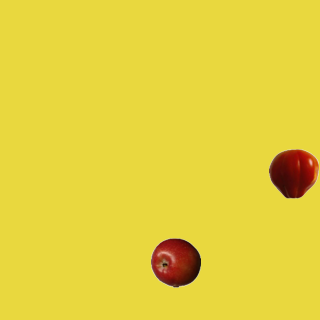Apple Braeburn: (150, 237, 200, 287)
Tomato 1: (268, 148, 318, 198)
